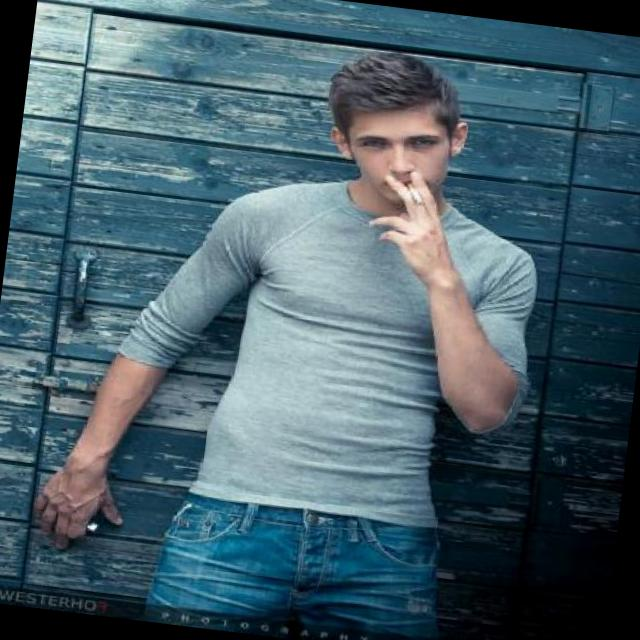smoke: (401, 180, 426, 206)
